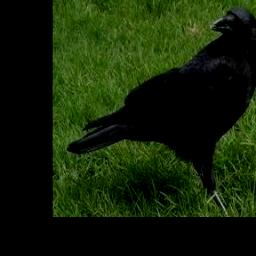Crow: (67, 8, 256, 192)
